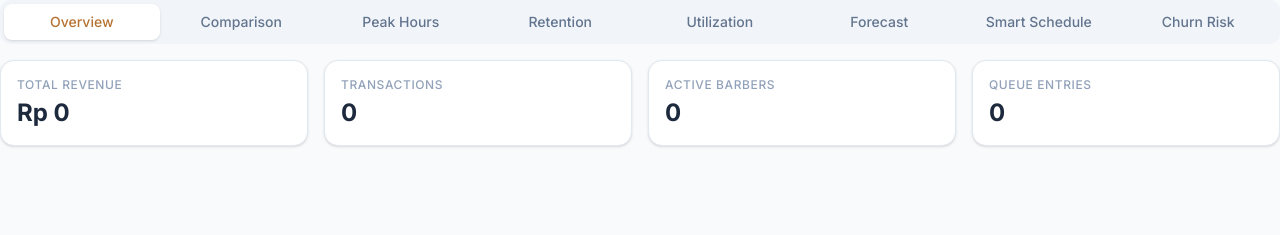
analytics feature › Retention tab shows cohort rates
The image size is (1280, 235).
Click the button "Retention". click: (560, 22)
box: 482,4 -> 638,40
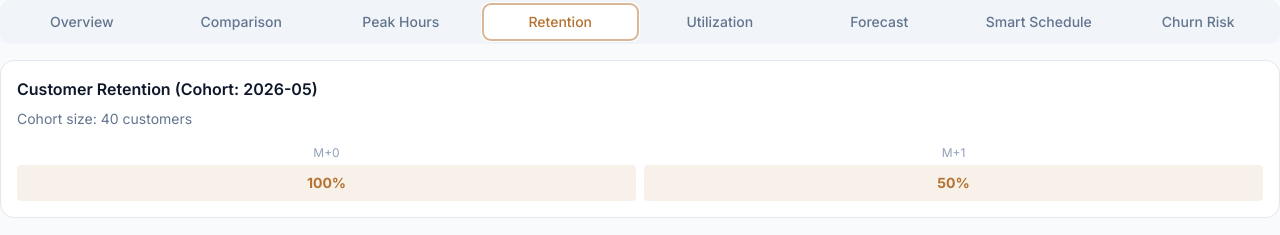
Now the text "Cohort size: 40 customers" is shown, box 17,110 -> 192,127
Now the text "100%" is shown, box 17,165 -> 636,201
